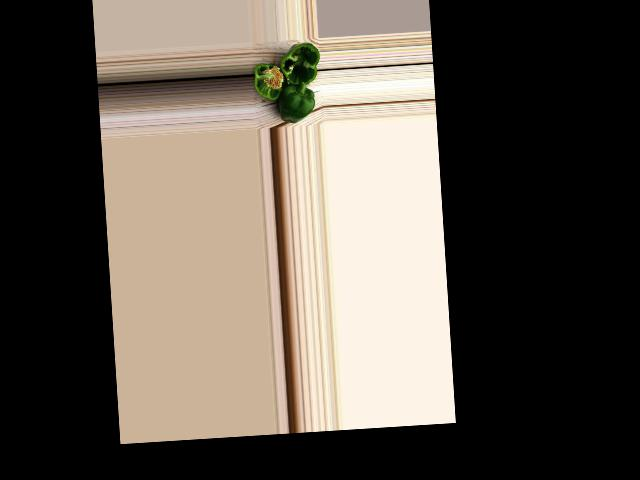bell_pepper: (252, 54, 288, 104)
